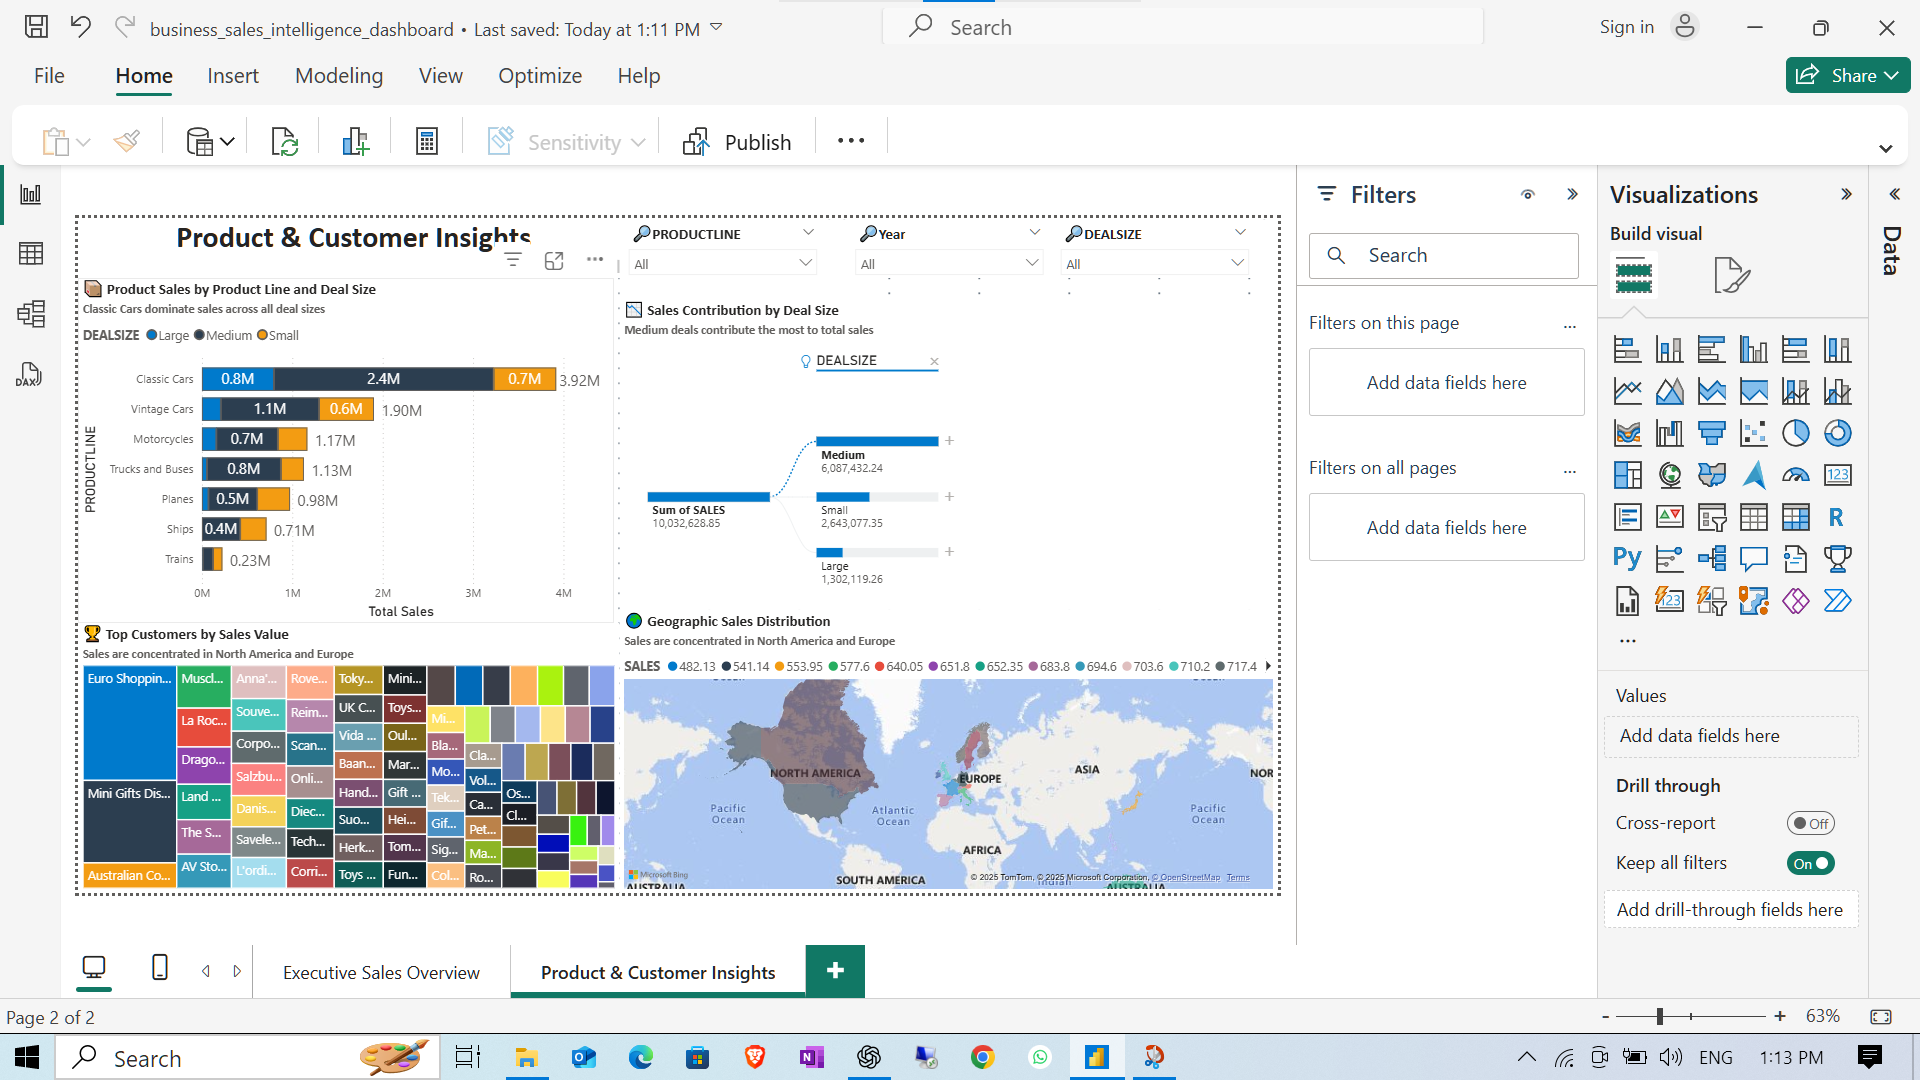

This screenshot's page, from the dashboard's own definition file:
{"tool":"powerbi","page":{"name":" Product & Customer Insights","canvas":[1280,720],"ordinal":1},"visuals":[{"type":"slicer","fields":{"Values":["SALES.DEALSIZE"]},"box":[1038.4,0,220.8,64],"z":0},{"type":"textbox","title":"Product & Customer Insights","box":[0,0,588.2,64],"z":1000},{"type":"barChart","title":"📦 Product Sales by Product Line and Deal Size","fields":{"Category":["SALES.PRODUCTLINE"],"Y":["SALES.Total Sales"],"Series":["SALES.DEALSIZE"]},"box":[0,64,571.2,368],"z":2000},{"type":"decompositionTreeVisual","title":"📉 Sales Contribution by Deal Size","fields":{"Analyze":["Sum(SALES.SALES)"],"ExplainBy":["SALES.DEALSIZE","SALES.PRODUCTLINE","SALES.COUNTRY"]},"box":[577.6,86.4,702.4,331.2],"z":3000},{"type":"treemap","title":"🏆 Top Customers by Sales Value","fields":{"Values":["Sum(SALES.SALES)"],"Group":["SALES.CUSTOMERNAME"]},"box":[0,432,577.6,288],"z":4000},{"type":"filledMap","title":"🌍 Geographic Sales Distribution","fields":{"Category":["SALES.COUNTRY"],"Series":["SALES.SALES"]},"box":[577.6,417.6,702.4,302.4],"z":5000},{"type":"slicer","fields":{"Values":["SALES.ORDERDATE.Variation.Date Hierarchy.Year"]},"box":[819.2,0,220.8,64],"z":6000},{"type":"slicer","fields":{"Values":["SALES.PRODUCTLINE"]},"box":[577.6,0,220.8,86.4],"z":7000}]}

Visuals, with their boxes on the page's 1280x720 design canvas (x1, y1, x2, y2). These are canvas units, not pixel positions in the 1920x1080 screenshot, which may show the page scaled, cropped or inside an application window:
slicer - SALES.DEALSIZE: region(1038, 0, 1259, 64)
"Product & Customer Insights" textbox: region(0, 0, 588, 64)
"📦 Product Sales by Product Line and Deal Size" barChart: region(0, 64, 571, 432)
"📉 Sales Contribution by Deal Size" decompositionTreeVisual: region(578, 86, 1280, 418)
"🏆 Top Customers by Sales Value" treemap: region(0, 432, 578, 720)
"🌍 Geographic Sales Distribution" filledMap: region(578, 418, 1280, 720)
slicer - SALES.ORDERDATE.Variation.Date Hierarchy.Year: region(819, 0, 1040, 64)
slicer - SALES.PRODUCTLINE: region(578, 0, 798, 86)
